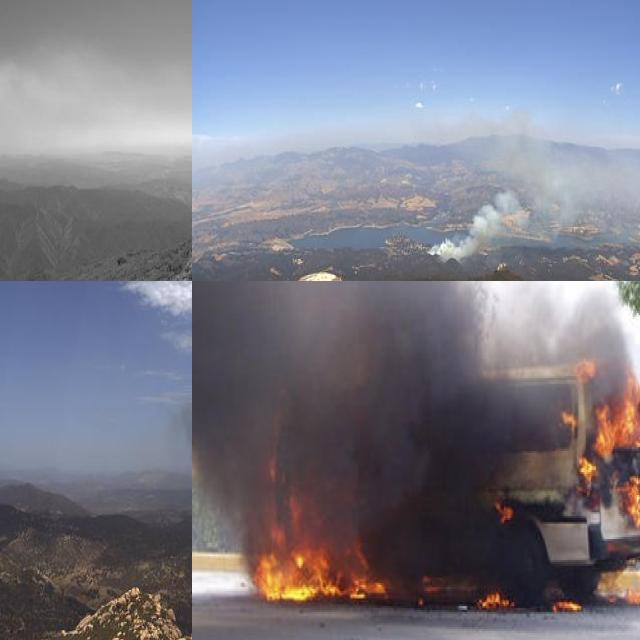fire: (245, 445, 389, 602), (562, 357, 640, 537), (472, 587, 515, 614), (550, 587, 579, 614), (487, 493, 513, 522)
smoke: (192, 281, 475, 512), (421, 101, 640, 267), (533, 288, 627, 395)
